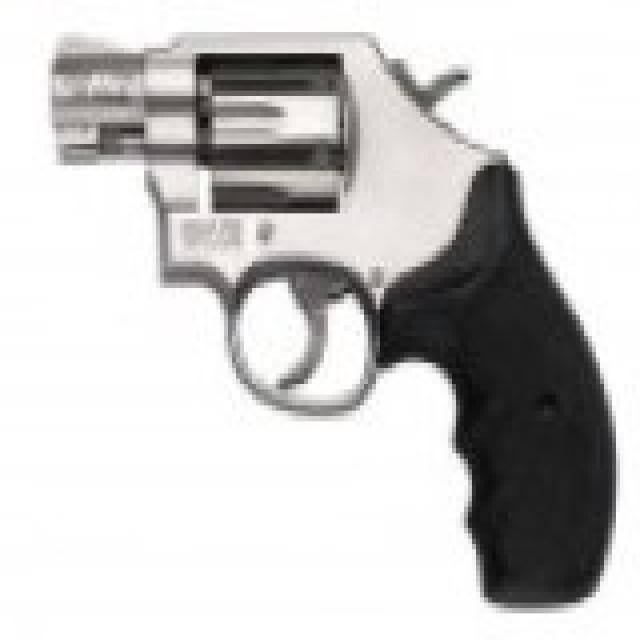pistol: (60, 26, 624, 602)
